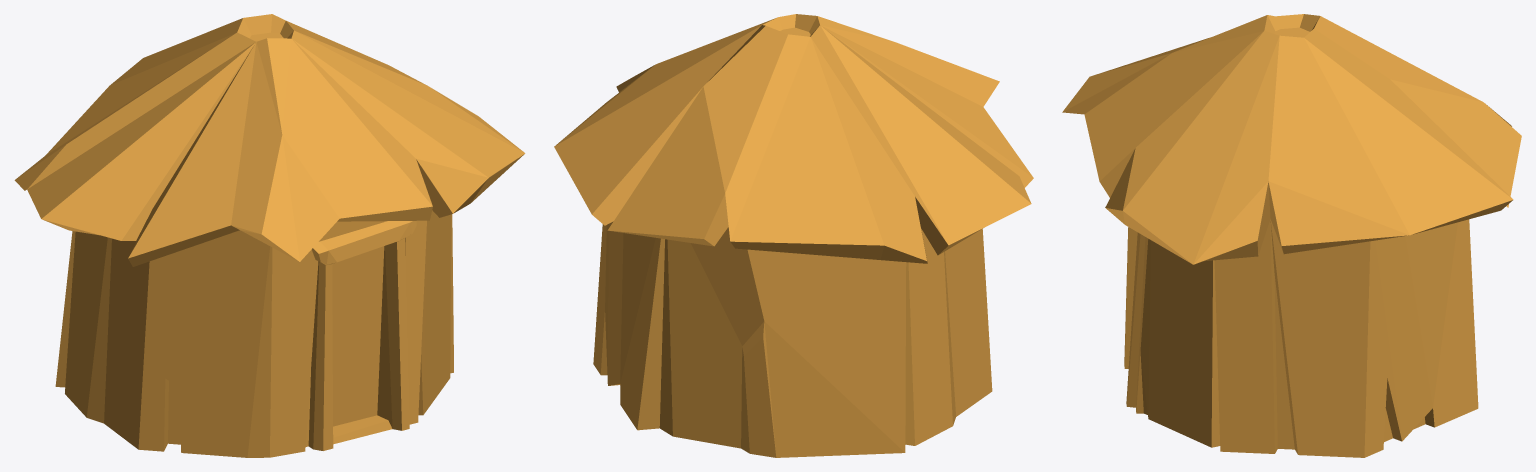
Rendered from pirate-hut-round.fbx.
The picture shows the model from 3 angles, left to right: view 1: azimuth 30°, elevation 25°; view 2: azimuth 150°, elevation 25°; view 3: azimuth 270°, elevation 25°; orthographic projection.
Visible parts, largest first — view 1: pirate-hut-round; view 2: pirate-hut-round; view 3: pirate-hut-round.
Part boxes in pixels (x1,y1,x2,y2): pirate-hut-round: [14, 14, 525, 457]; pirate-hut-round: [554, 14, 1033, 457]; pirate-hut-round: [1062, 14, 1521, 457].
Size of the model in its own units: 5.43 by 4.2 by 4.89.
